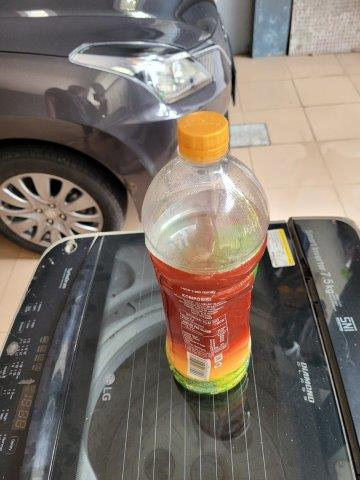botolplastik: (141, 114, 266, 394)
